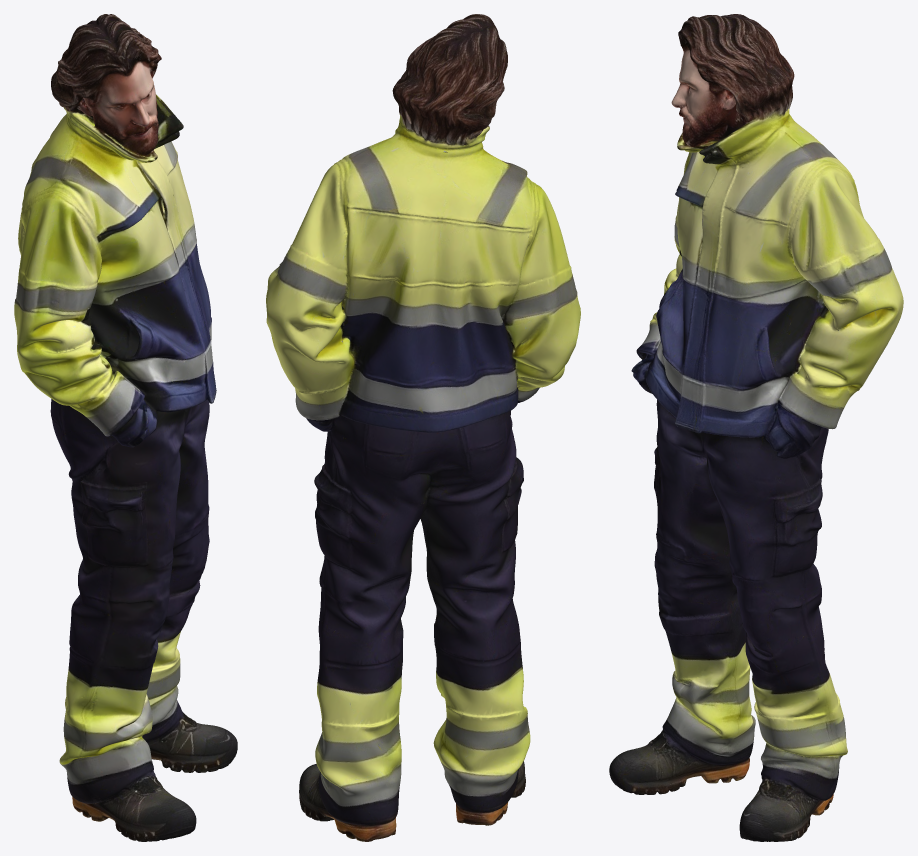
Rendered from worker.glb.
3 views of the same model, side by side, from view 1: azimuth 30°, elevation 25°; view 2: azimuth 150°, elevation 25°; view 3: azimuth 270°, elevation 25° (orthographic). The views are drawn at different scales.
Parts seen in each view (by area): view 1: mesh_0; view 2: mesh_0; view 3: mesh_0.
Part boxes in pixels (left/top/right/bottom): mesh_0: left=14, top=14, right=237, bottom=841; mesh_0: left=266, top=14, right=580, bottom=841; mesh_0: left=609, top=14, right=903, bottom=841.
Size of the model in its own units: 0.6163 by 1.9 by 0.6601.
Materials: 1 (1 with a texture image).
